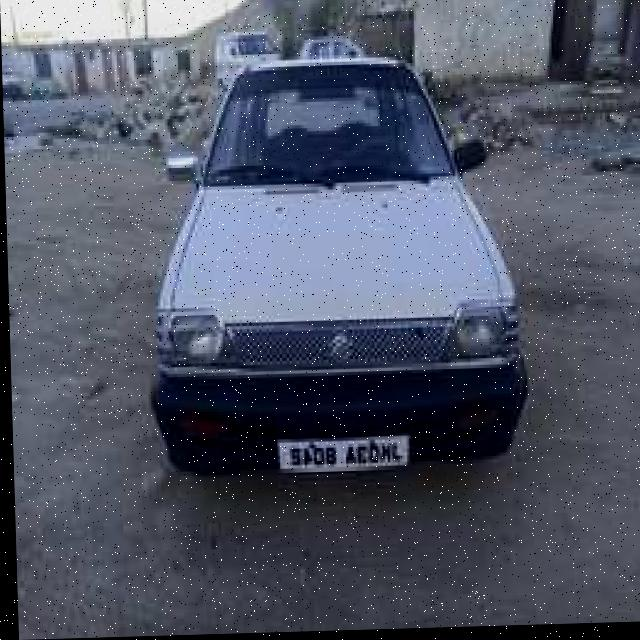plate: (276, 438, 406, 474)
